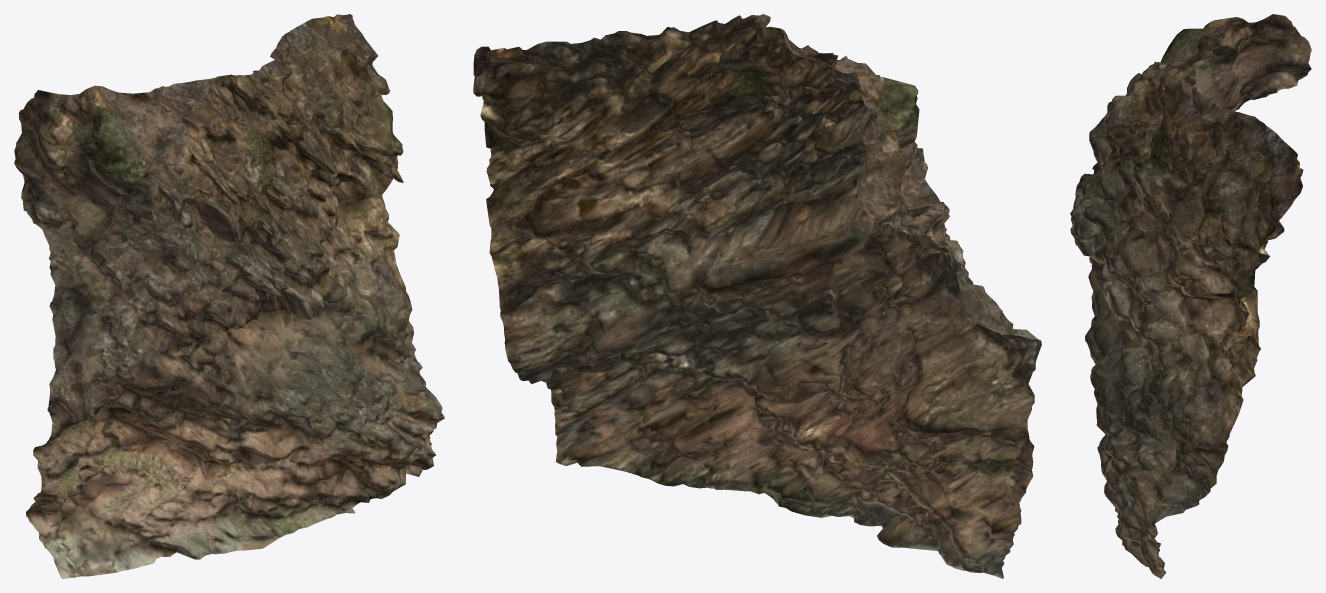
Rendered from mountainside.glb.
3 views of the same model, side by side, from view 1: azimuth 30°, elevation 25°; view 2: azimuth 150°, elevation 25°; view 3: azimuth 270°, elevation 25° (orthographic). The views are drawn at different scales.
Parts seen in each view (by area): view 1: mountainside; view 2: mountainside; view 3: mountainside.
Part boxes in pixels (bbox=[...]): mountainside: bbox=[14, 14, 444, 578]; mountainside: bbox=[473, 14, 1041, 578]; mountainside: bbox=[1070, 14, 1311, 578].
Bounding box in the file's own units: 10.21 × 10.52 × 5.25.
Materials: 1 (1 with a texture image).
